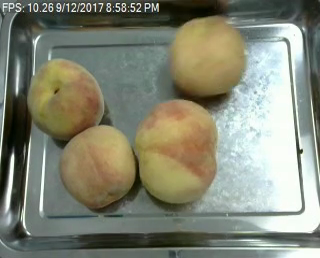Peach: (135, 99, 219, 203), (58, 124, 137, 209), (26, 58, 104, 140), (169, 15, 245, 94)
